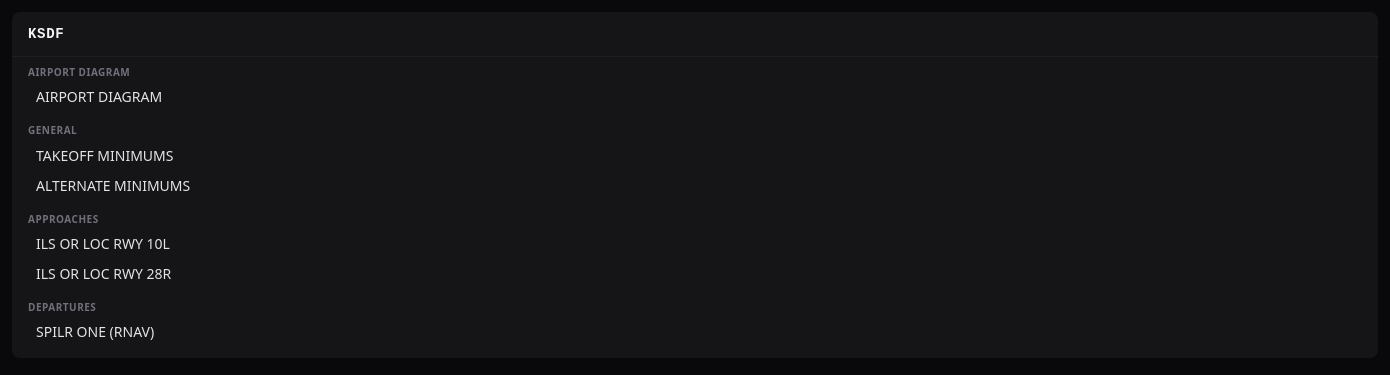
Test case: ChartListCard › collapses when the header is clicked, hiding the chart list
The width and height of the screenshot is (1390, 375).
Click the button named "collapse KSDF": click(695, 34) [12,12,1378,56]
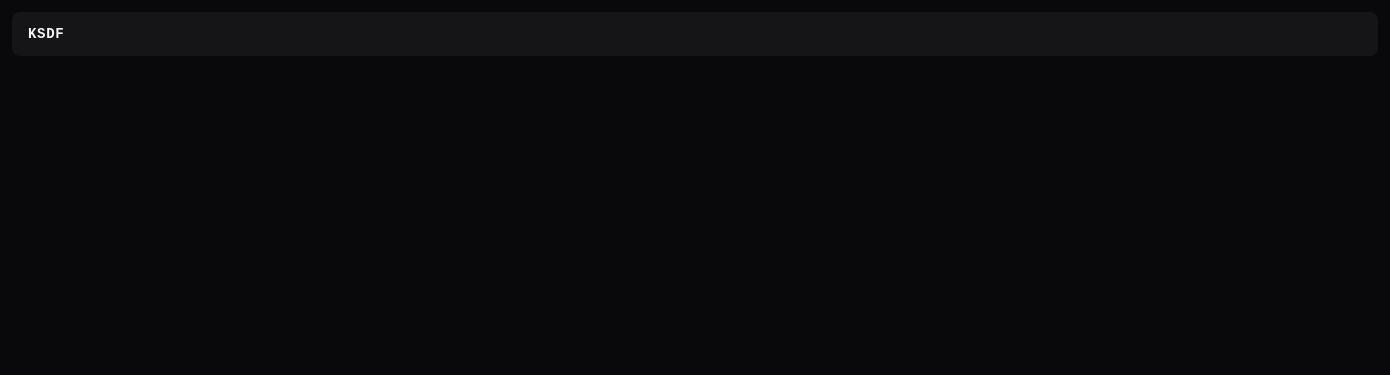
expect the text "KSDF" is shown: met, box [28,24,64,44]
expect the heading "Airport Diagram" is gone: met
